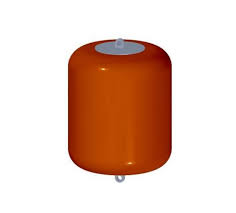buoy: (67, 40, 172, 171)
